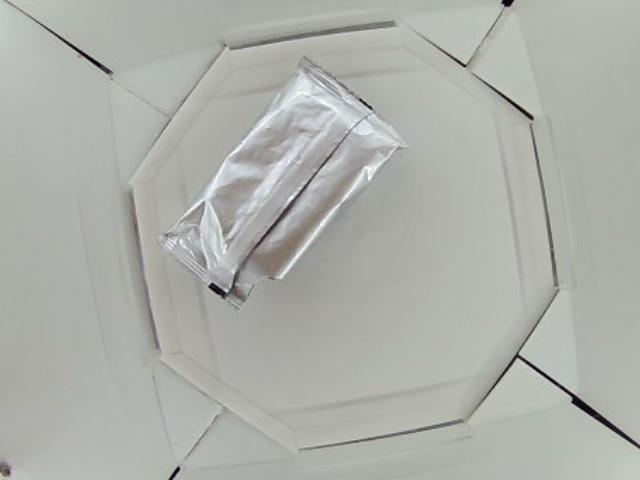Medicine: (162, 58, 405, 312)
